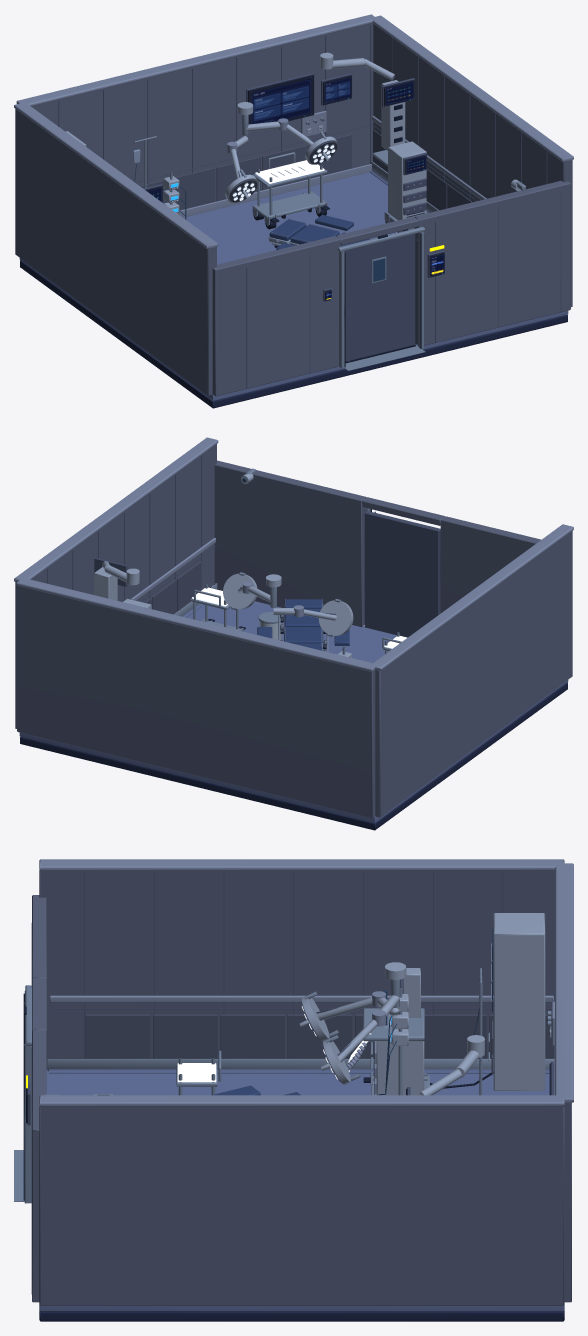
File: pcho-3-detailed.glb
The picture shows the model from 3 angles, top to bottom: view 1: azimuth 30°, elevation 25°; view 2: azimuth 150°, elevation 25°; view 3: azimuth 270°, elevation 25°; orthographic projection. The views are drawn at different scales.
Parts seen in each view (by area): view 1: PCHO3/Architecture/0, PCHO3/Architecture/1, PCHO3/Architecture/2, PCHO3/Architecture/3, PCHO3/Architecture/16, PCHO3/Architecture/4, PCHO3/Architecture/5, PCHO3/VideoManagement/21, PCHO3/Furniture/5, PCHO3/Furniture/6, PCHO3/CeilingBooms/6, PCHO3/Table/8 (+7 smaller); view 2: PCHO3/Architecture/0, PCHO3/Architecture/1, PCHO3/Architecture/2, PCHO3/Architecture/3, PCHO3/Architecture/4, PCHO3/SurgicalLights/6, PCHO3/Table/8, PCHO3/Architecture/16, PCHO3/CeilingBooms/6, PCHO3/Furniture/5; view 3: PCHO3/Architecture/0, PCHO3/Architecture/1, PCHO3/Architecture/16, PCHO3/Architecture/3, PCHO3/Furniture/6, PCHO3/Architecture/5, PCHO3/Architecture/4, PCHO3/Anaesthesia/6, PCHO3/SurgicalLights/6, PCHO3/Architecture/2, PCHO3/Anaesthesia/5, PCHO3/CeilingBooms/6 (+2 smaller).
Part boxes in pixels (left/top/right/bottom): PCHO3/Architecture/0: left=15, top=23, right=572, bottom=396; PCHO3/Architecture/1: left=14, top=14, right=573, bottom=248; PCHO3/Architecture/2: left=58, top=25, right=561, bottom=387; PCHO3/Architecture/3: left=19, top=170, right=568, bottom=400; PCHO3/Architecture/16: left=140, top=130, right=471, bottom=210; PCHO3/Architecture/4: left=20, top=260, right=567, bottom=408; PCHO3/Architecture/5: left=338, top=161, right=439, bottom=370; PCHO3/VideoManagement/21: left=252, top=77, right=350, bottom=123; PCHO3/Furniture/5: left=252, top=152, right=425, bottom=232; PCHO3/Furniture/6: left=65, top=131, right=426, bottom=220; PCHO3/CeilingBooms/6: left=320, top=52, right=405, bottom=150; PCHO3/Table/8: left=269, top=214, right=369, bottom=249; PCHO3/Architecture/0: left=15, top=444, right=572, bottom=818; PCHO3/Architecture/1: left=14, top=437, right=573, bottom=671; PCHO3/Architecture/2: left=47, top=456, right=440, bottom=637; PCHO3/Architecture/3: left=19, top=601, right=568, bottom=822; PCHO3/Architecture/4: left=20, top=682, right=567, bottom=830; PCHO3/SurgicalLights/6: left=223, top=573, right=353, bottom=635; PCHO3/Table/8: left=257, top=599, right=349, bottom=650; PCHO3/Architecture/16: left=145, top=561, right=201, bottom=614; PCHO3/CeilingBooms/6: left=93, top=561, right=139, bottom=600; PCHO3/Furniture/5: left=190, top=584, right=401, bottom=653; PCHO3/Architecture/0: left=32, top=870, right=571, bottom=1305; PCHO3/Architecture/1: left=39, top=859, right=573, bottom=1106; PCHO3/Architecture/16: left=85, top=1014, right=554, bottom=1058; PCHO3/Architecture/3: left=39, top=1069, right=564, bottom=1311; PCHO3/Furniture/6: left=493, top=913, right=545, bottom=1090; PCHO3/Architecture/5: left=14, top=985, right=554, bottom=1203; PCHO3/Architecture/4: left=39, top=1311, right=564, bottom=1321; PCHO3/Anaesthesia/6: left=376, top=968, right=424, bottom=1095; PCHO3/SurgicalLights/6: left=299, top=962, right=406, bottom=1084; PCHO3/Architecture/2: left=24, top=872, right=554, bottom=1294; PCHO3/Anaesthesia/5: left=363, top=987, right=429, bottom=1095; PCHO3/CeilingBooms/6: left=420, top=1035, right=484, bottom=1095.
Bounding box in the file's own units: 7.03 × 3.09 × 6.82.
21 materials, 3 textured.
